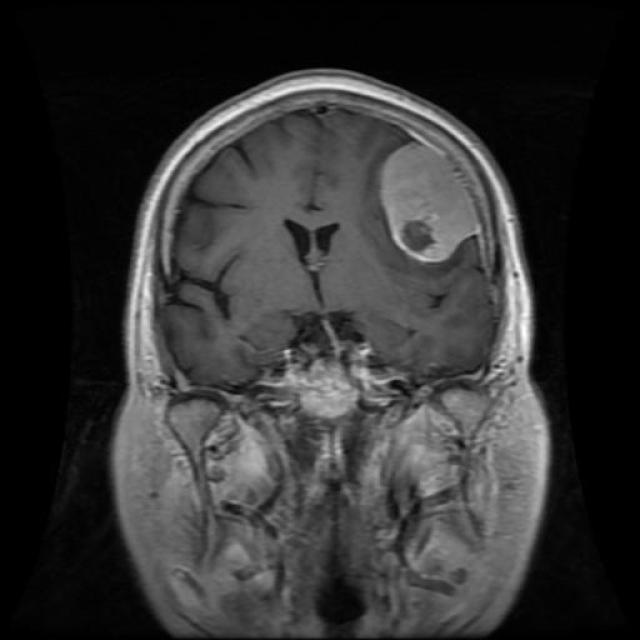Tumor: (378, 140, 482, 269)
